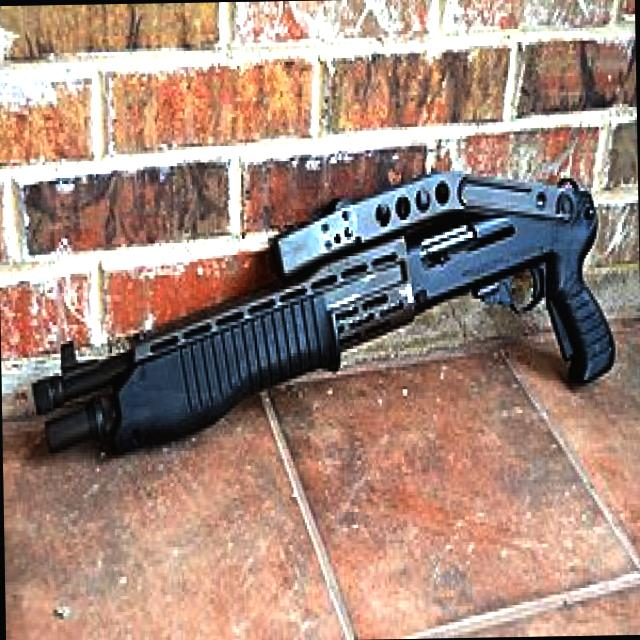shotgun: (28, 156, 622, 492)
